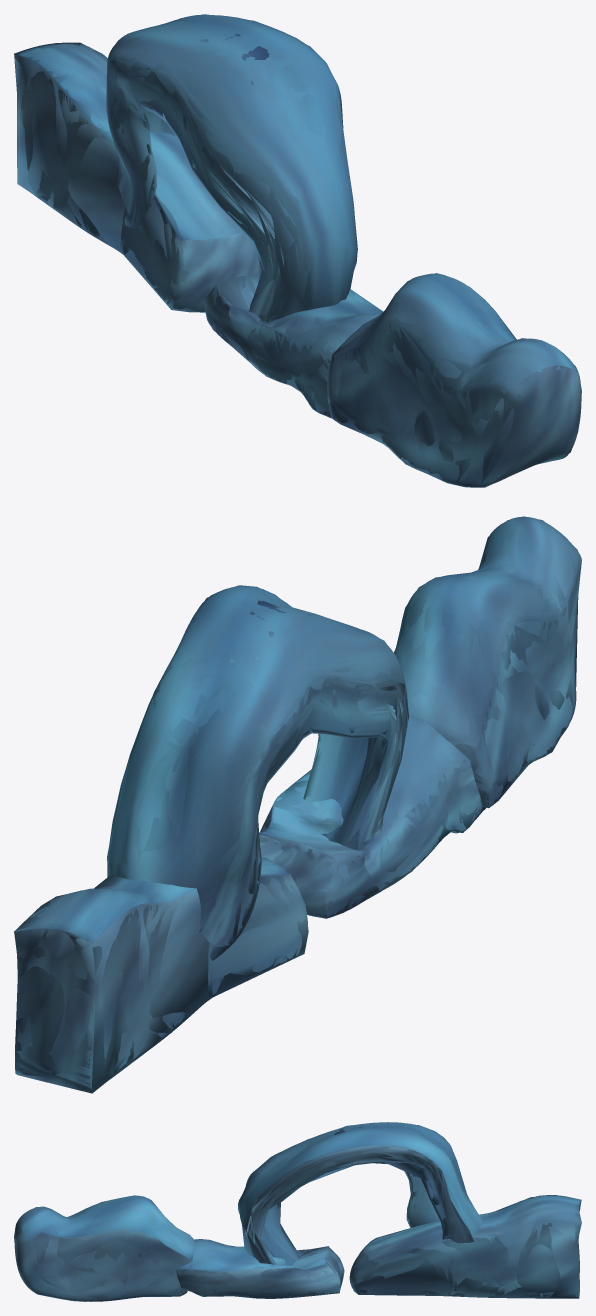
The model's file is new_glacer_3_LOD.fbx.
3 renders of one model, top to bottom at view 1: azimuth 30°, elevation 25°; view 2: azimuth 150°, elevation 25°; view 3: azimuth 270°, elevation 25°, orthographic. The views are drawn at different scales.
Parts seen in each view (by area): view 1: Cube.004, Cube, Cube.003, Cube.001, Cube.002; view 2: Cube.004, Cube, Cube.003, Cube.002, Cube.001; view 3: Cube.004, Cube, Cube.003, Cube.001, Cube.002.
Boxes of the visible parts, <box> form: Cube.004: <box>14,14,581,487</box>; Cube: <box>15,15,580,486</box>; Cube.003: <box>14,15,581,487</box>; Cube.001: <box>15,15,581,487</box>; Cube.002: <box>14,15,581,487</box>; Cube.004: <box>14,516,581,1093</box>; Cube: <box>14,517,581,1088</box>; Cube.003: <box>15,517,581,1086</box>; Cube.002: <box>14,517,580,1086</box>; Cube.001: <box>14,518,581,1088</box>; Cube.004: <box>14,1123,581,1301</box>; Cube: <box>14,1122,581,1300</box>; Cube.003: <box>14,1122,581,1301</box>; Cube.001: <box>16,1122,581,1301</box>; Cube.002: <box>14,1122,580,1301</box>.
Size of the model in its own units: 445 by 800 by 2455.
